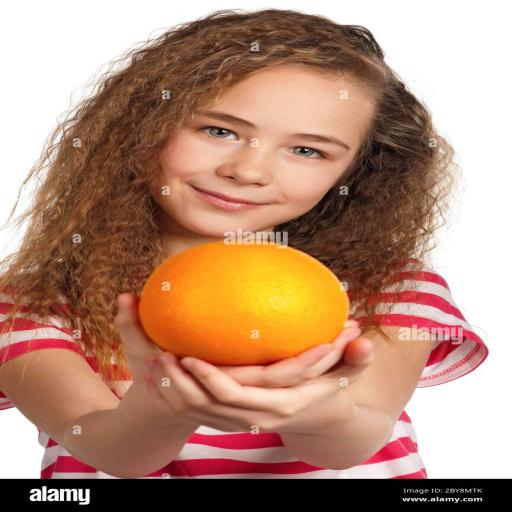orange: (139, 241, 349, 365)
